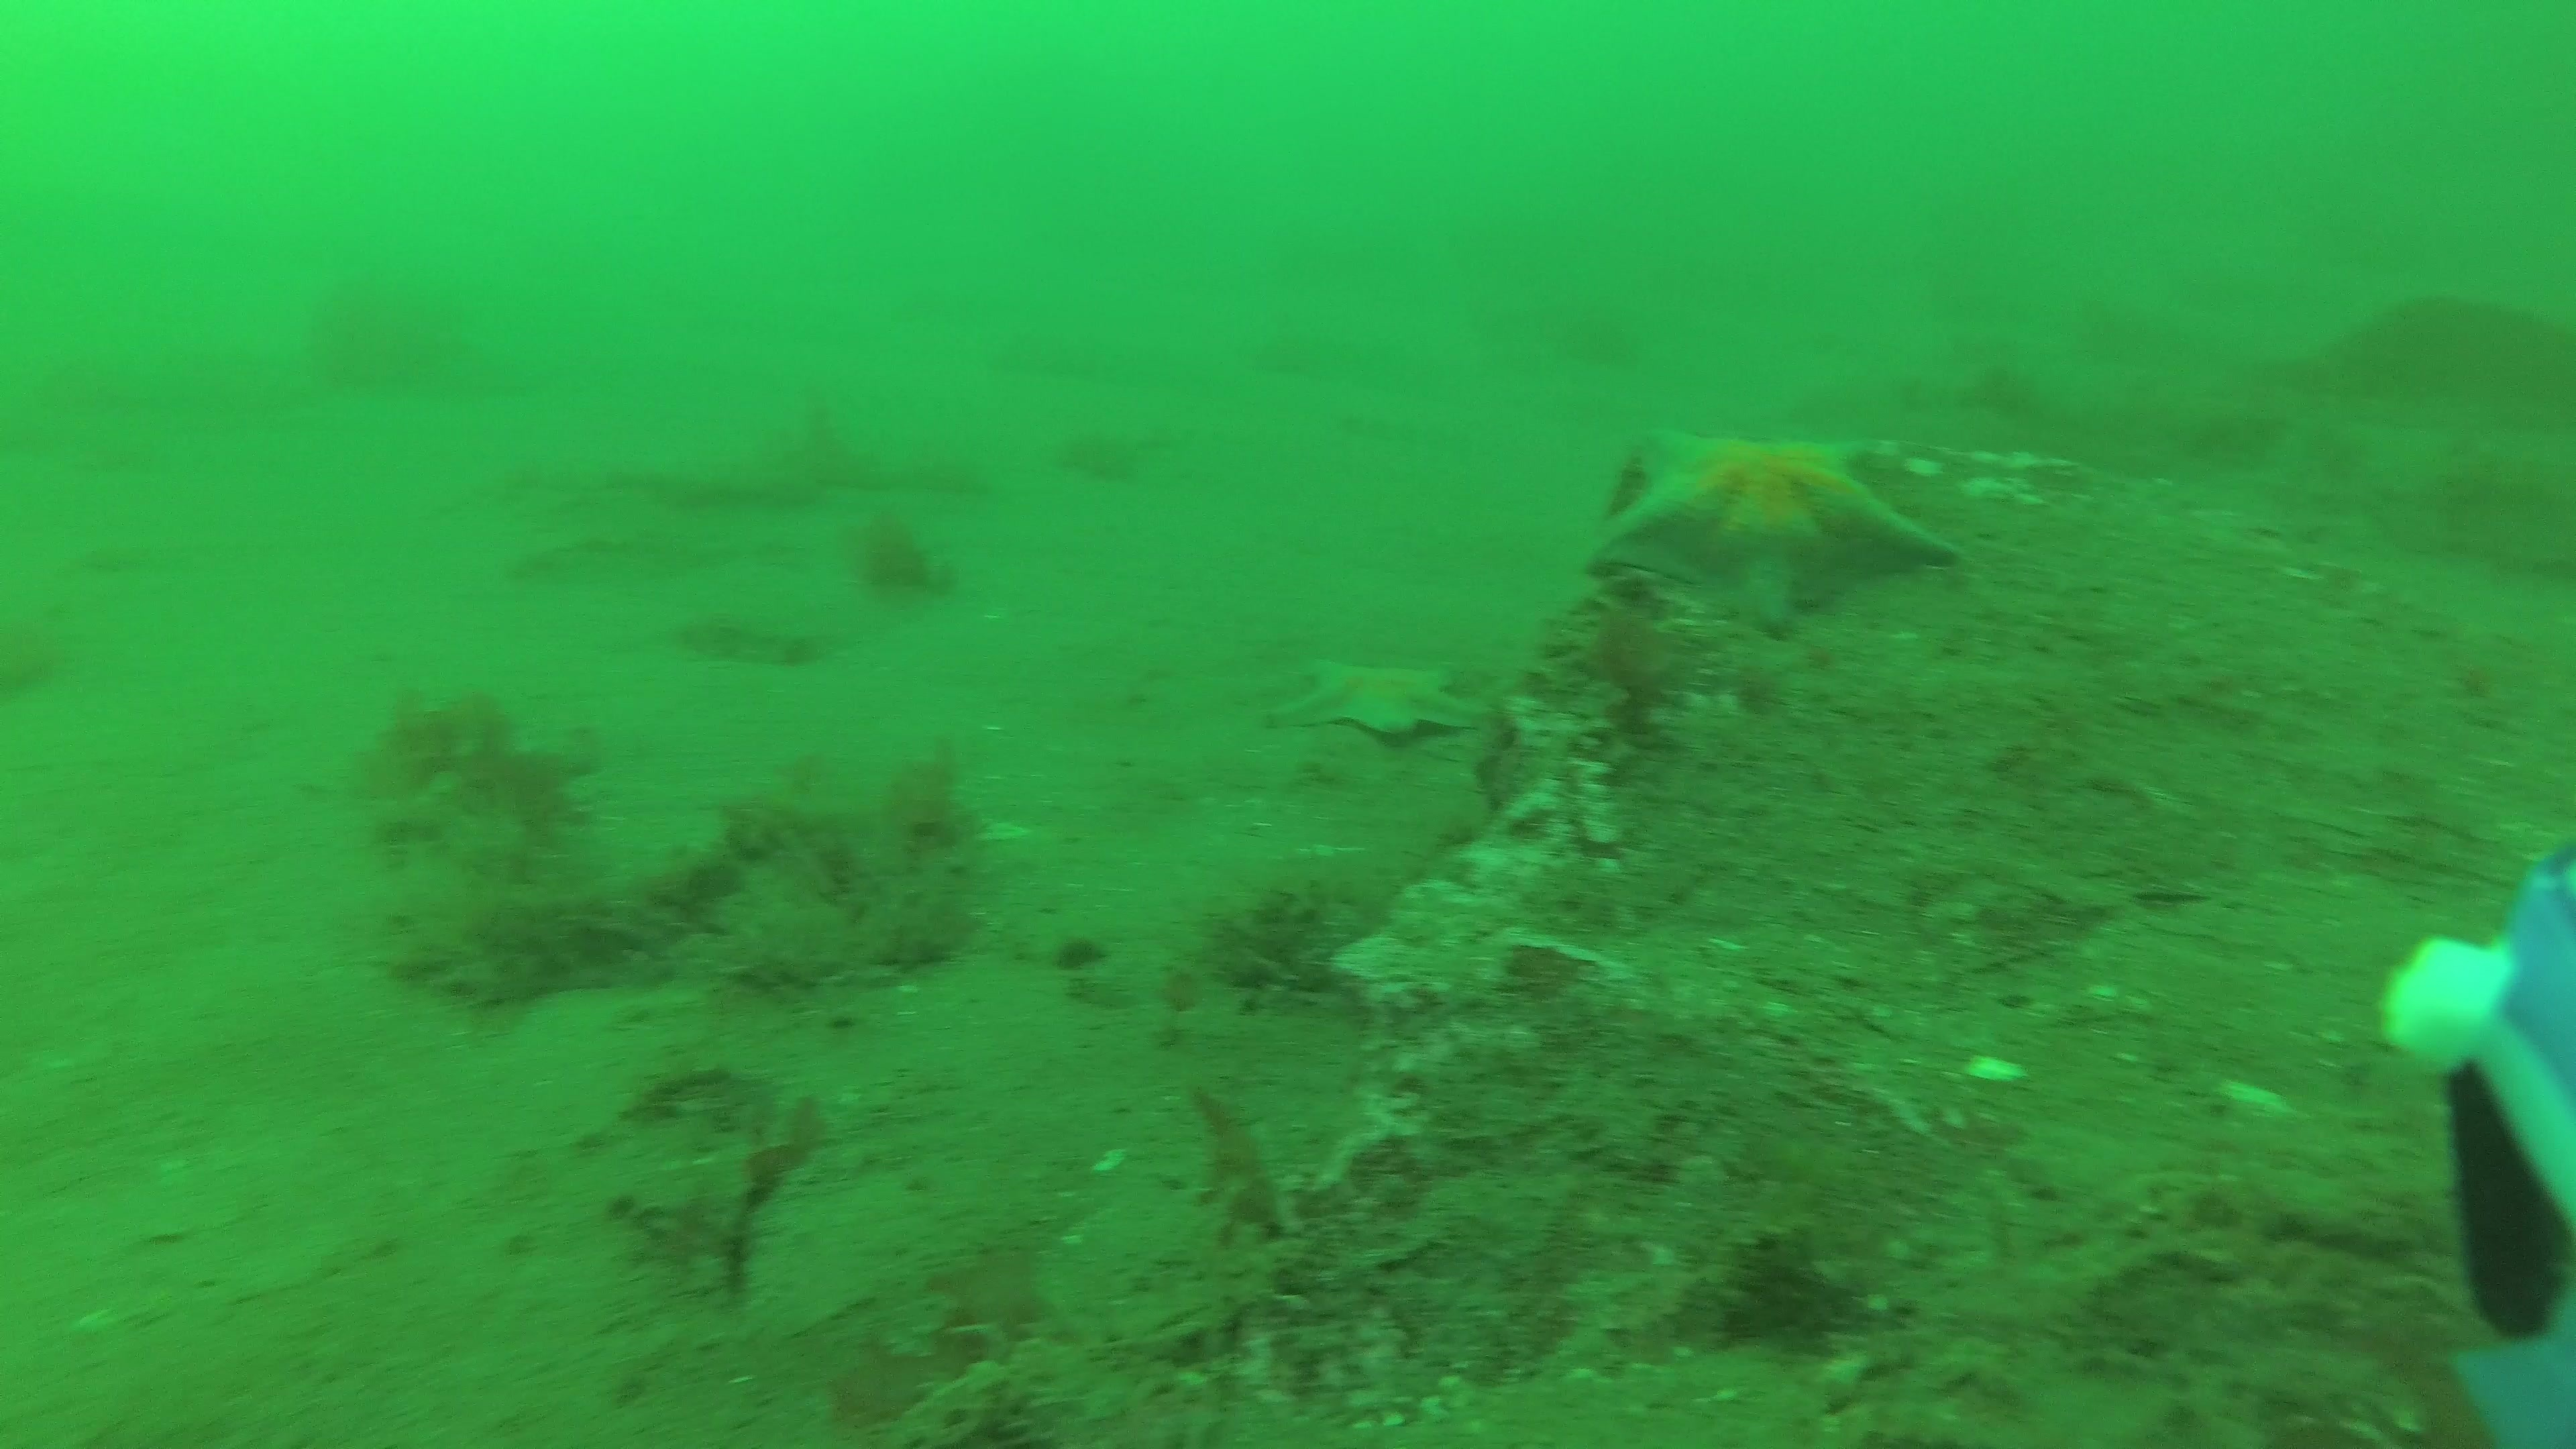starfish: (1587, 414, 1967, 644), (1288, 655, 1504, 743)
